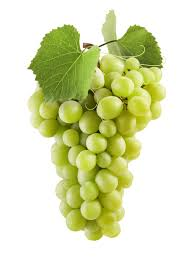Green grapes: (28, 33, 167, 242)
